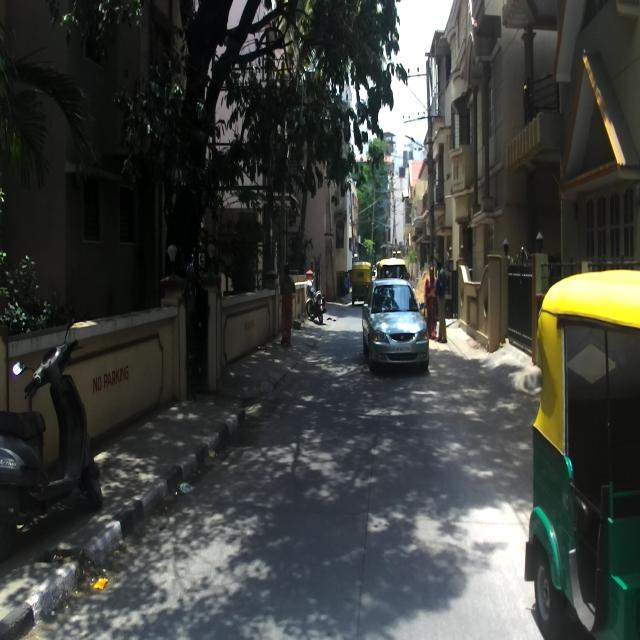auto ahead at: (525, 271, 640, 640)
car ahead at: (364, 268, 429, 388)
motorcycle ahead at: (0, 313, 106, 569), (303, 275, 329, 328)
person ahead at: (276, 258, 300, 354)
